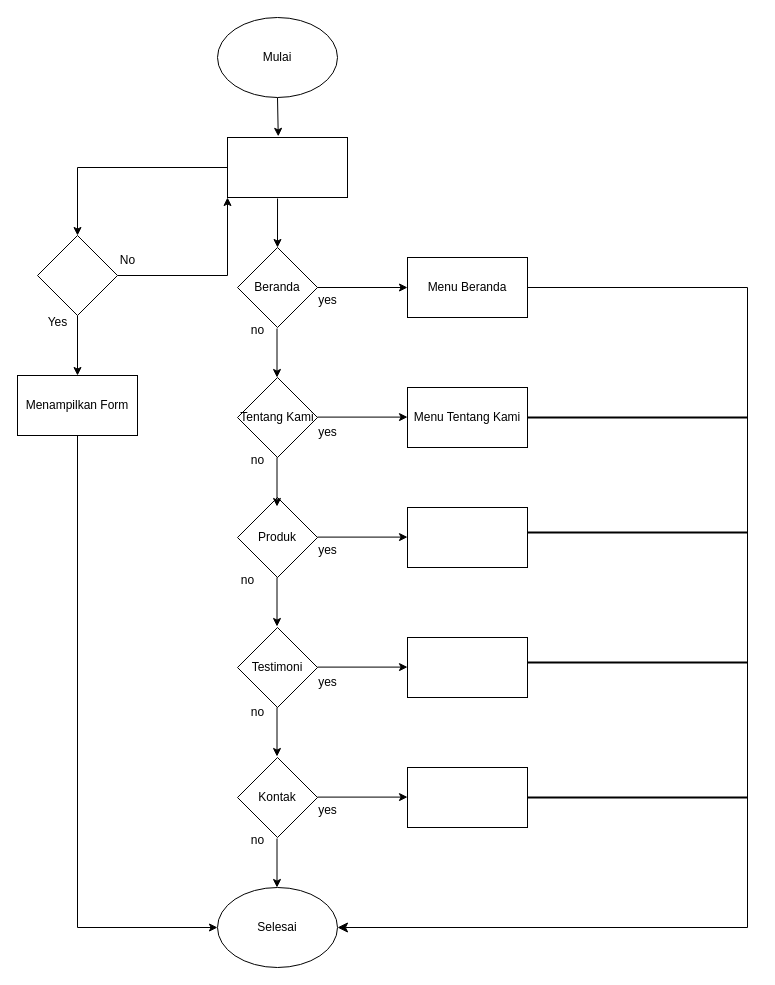
The diagram is 775 pixels wide and 985 high, and some of its shapes have lost their labels. Here are the shapes that lost their labels. From the top down, the box of each, then its label:
(226, 136, 348, 198): Tampilan Website
(36, 234, 118, 316): Membuat Form?
(406, 506, 528, 568): Menu Produk
(406, 636, 528, 698): Menu Testimoni
(406, 766, 528, 828): Menu Kontak
